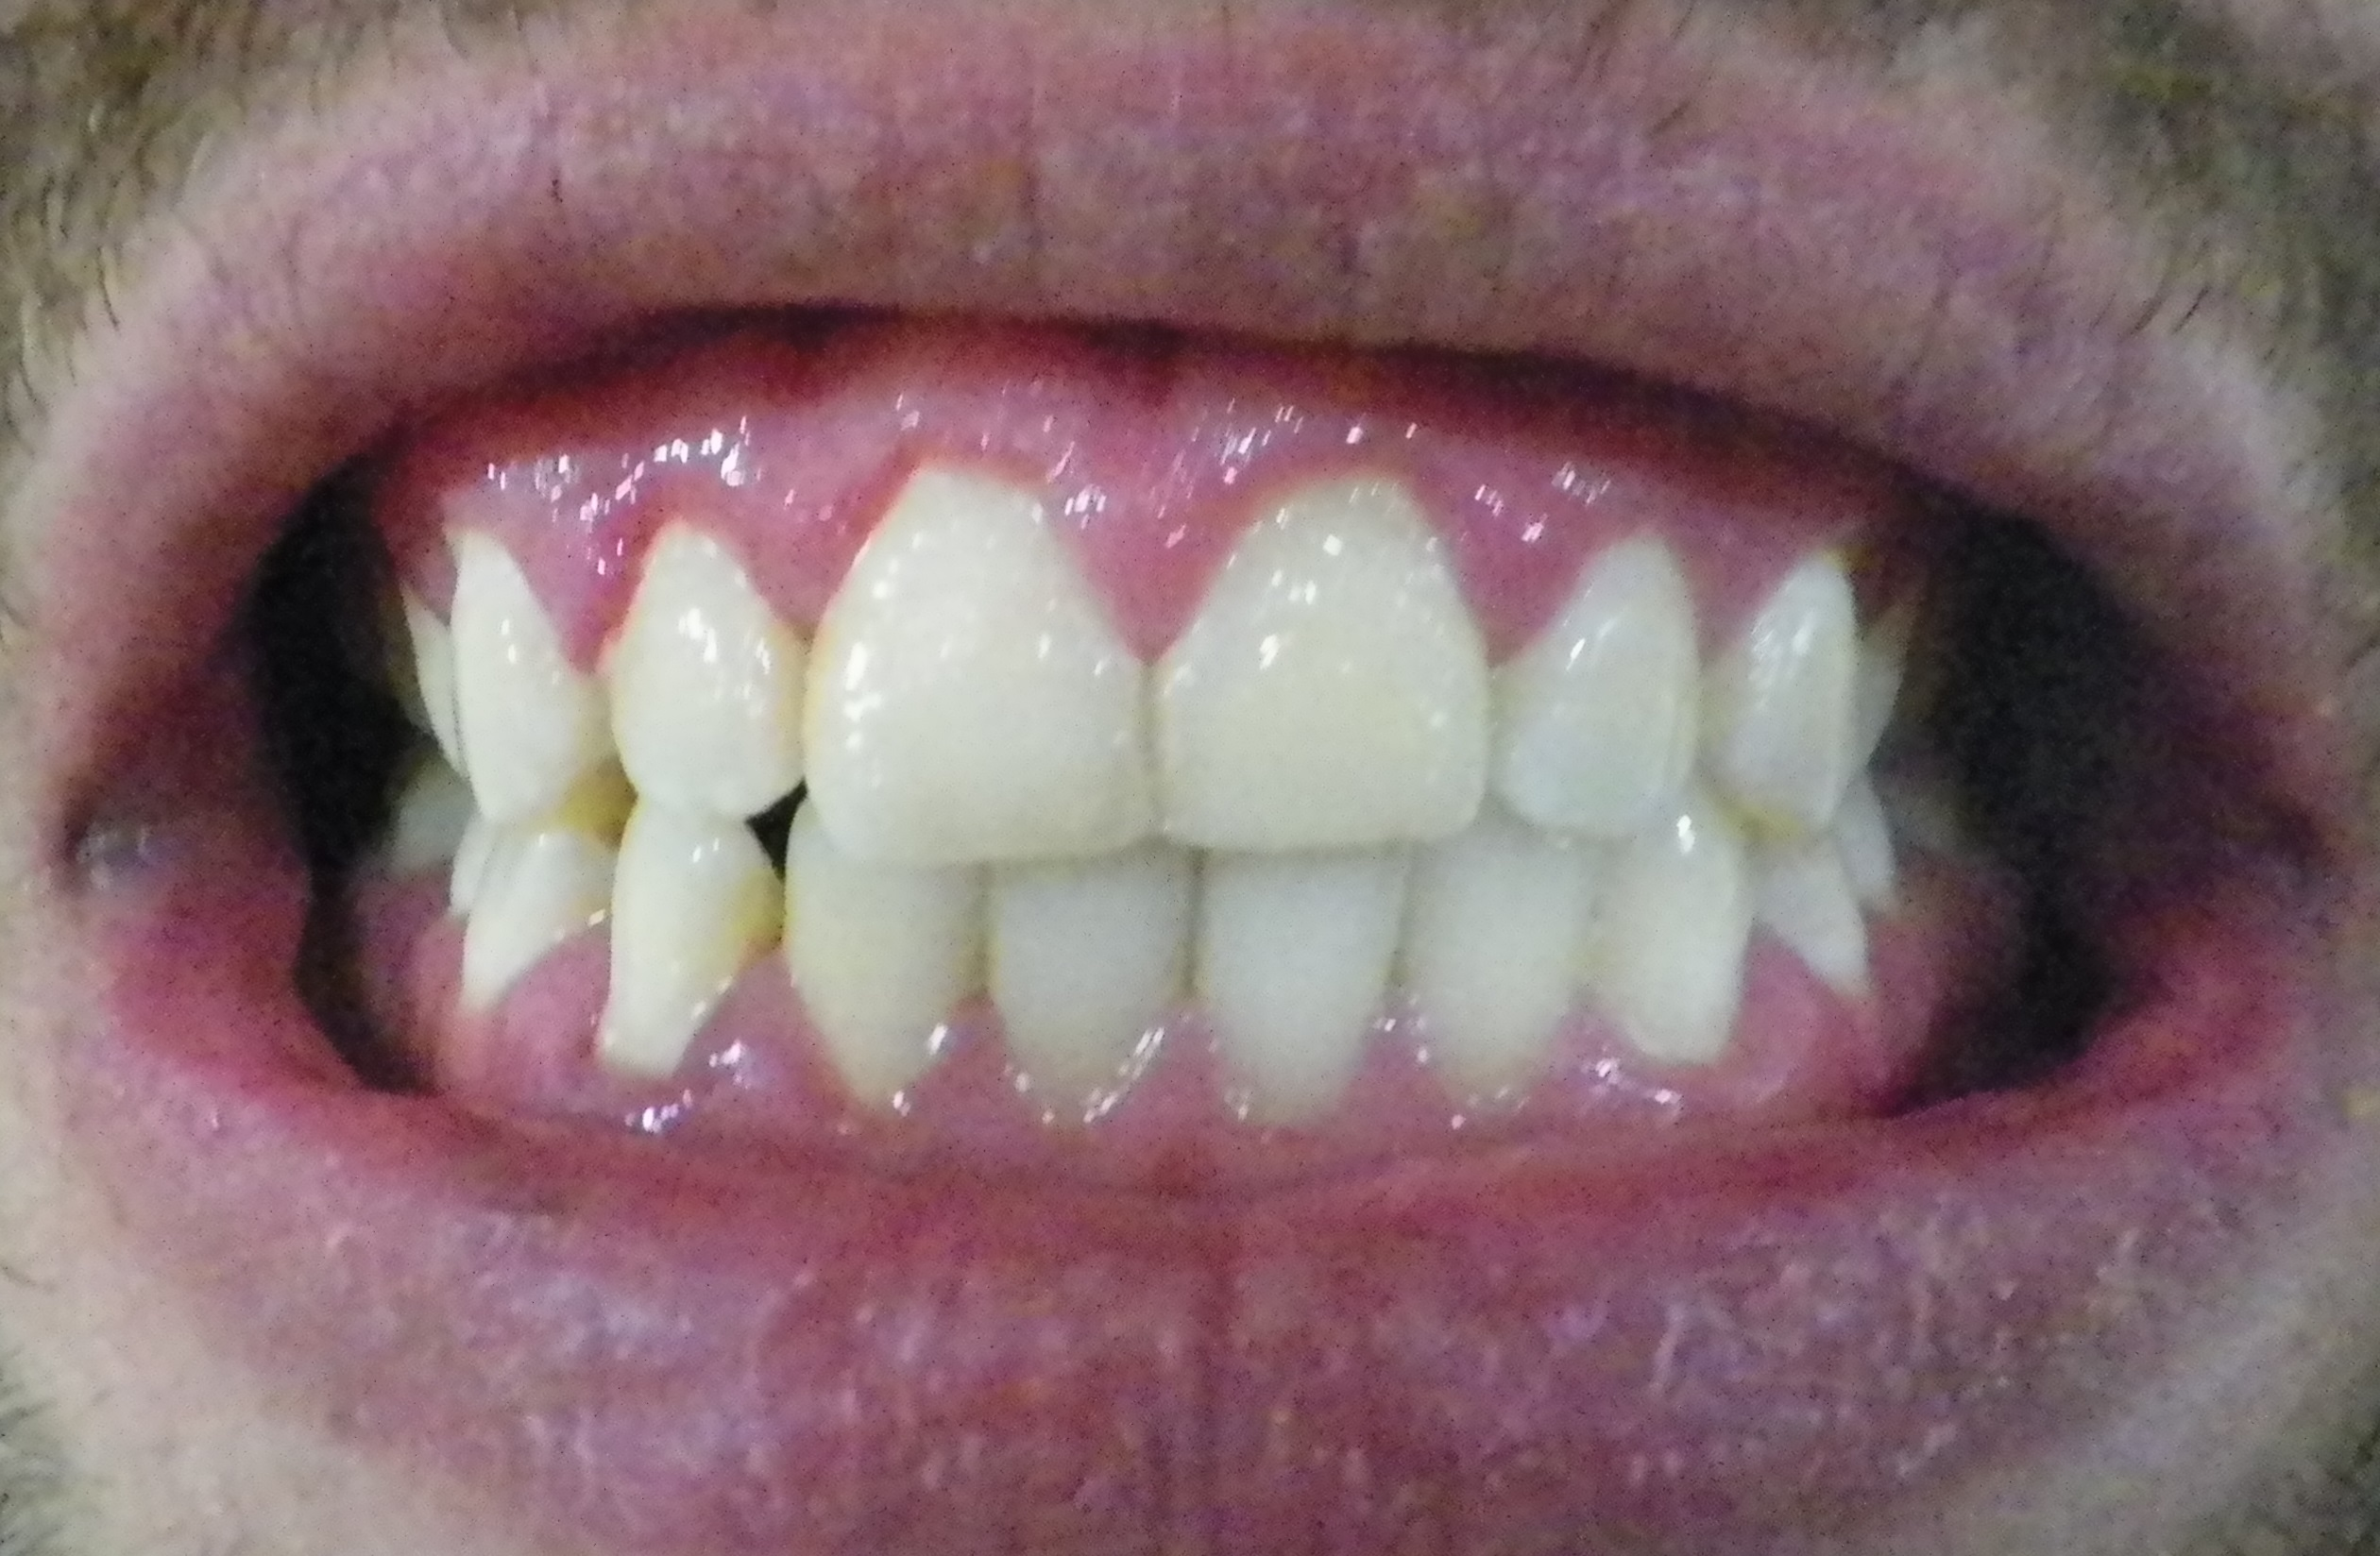boca: (367, 476, 1970, 1110)
